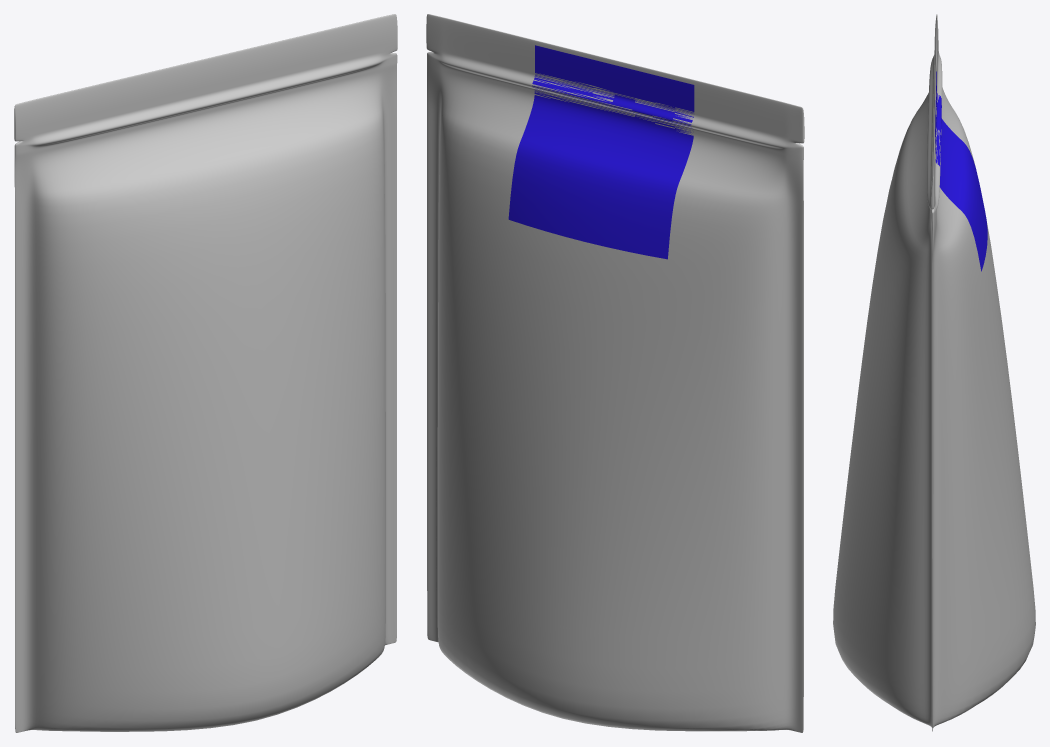
The model's file is bag.glb.
3 views of the same model, side by side, from view 1: azimuth 30°, elevation 25°; view 2: azimuth 150°, elevation 25°; view 3: azimuth 270°, elevation 25° (orthographic). The views are drawn at different scales.
Visible parts, largest first — view 1: Object_2; view 2: Object_2; view 3: Object_2.
Part boxes in pixels (<box>): Object_2: <box>14,14,397,732</box>; Object_2: <box>426,14,804,732</box>; Object_2: <box>833,14,1035,731</box>.
Size of the model in its own units: 0.3167 by 0.4999 by 0.1651.
